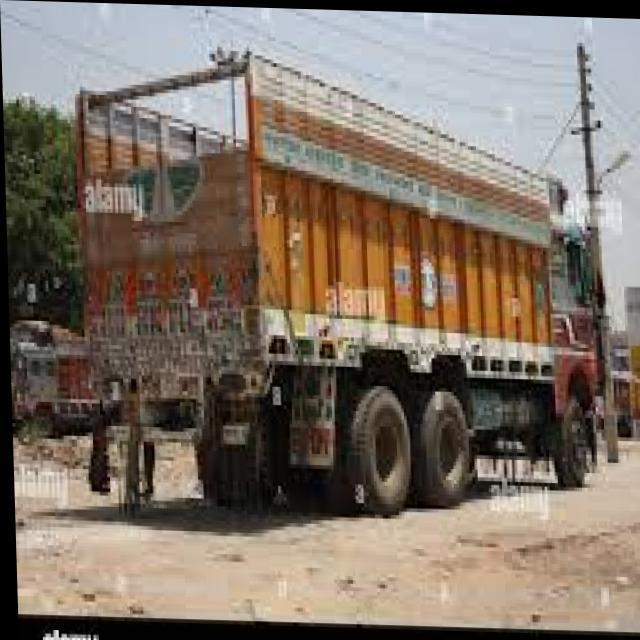covered: (68, 38, 609, 521)
